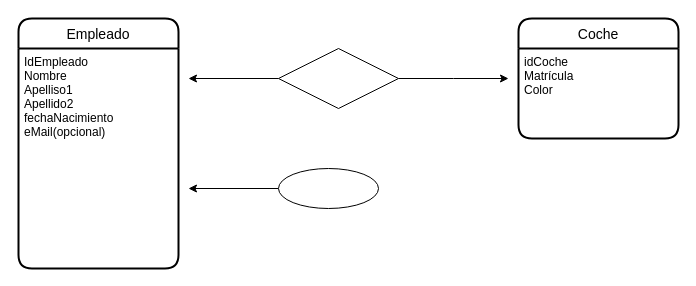
Some shapes in this 696 by 286 pixel diagram are drawn without their labels. Here are the shapes that lost their labels. From the top down, the centre of each, then its label:
At point 338,78: "Asignar".
At point 328,188: "telefono".
